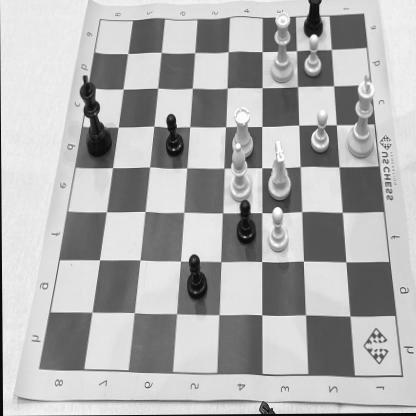black-king: (76, 72, 114, 162)
black-pawn: (182, 250, 209, 304), (162, 110, 186, 162), (233, 198, 259, 246)
black-rook: (299, 0, 328, 44)
white-bishop: (227, 139, 253, 208)
white-king: (342, 69, 378, 164)
white-knight: (264, 138, 294, 203)
white-pawn: (266, 204, 291, 257), (308, 106, 333, 158), (300, 33, 326, 80)
white-queen: (266, 8, 296, 86)
white-rook: (229, 101, 258, 162)
